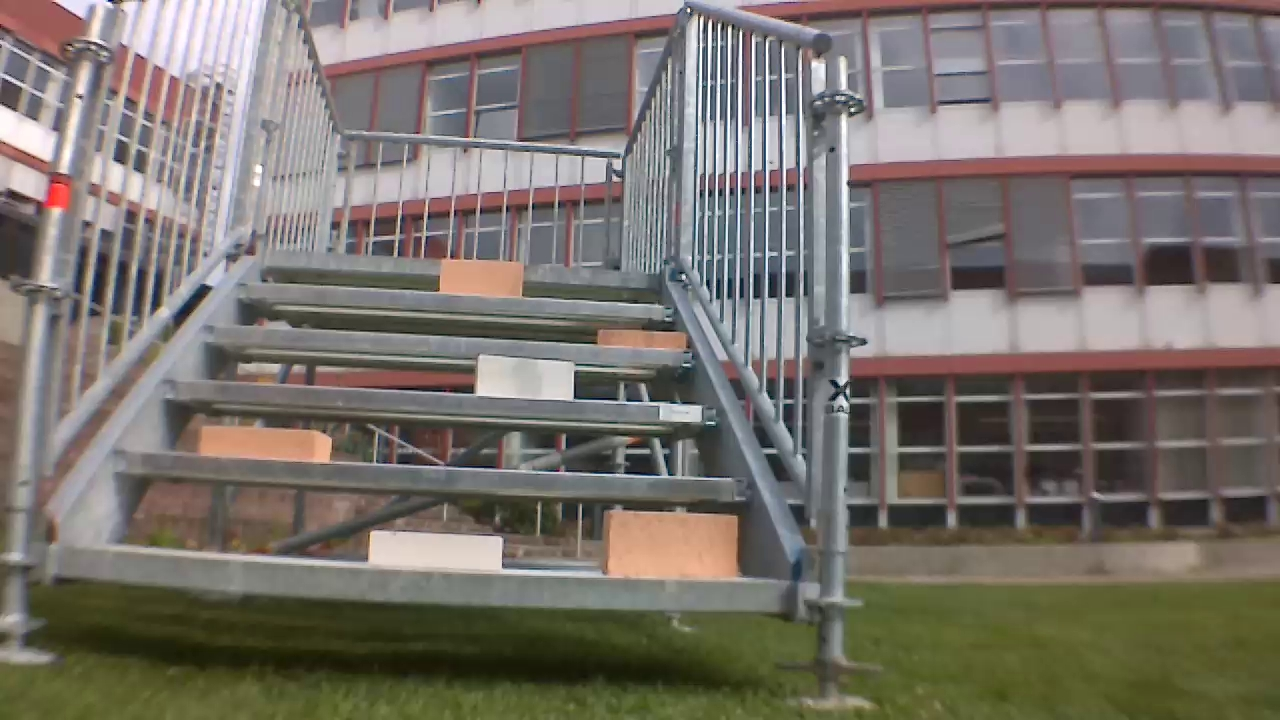brick: (603, 515, 741, 577), (365, 530, 508, 568), (203, 425, 336, 463), (470, 358, 583, 397), (430, 257, 532, 294), (599, 330, 688, 346)
edge: (46, 541, 799, 611), (106, 443, 751, 502), (160, 380, 718, 427), (206, 321, 696, 366), (239, 285, 674, 323), (265, 246, 662, 284)
stairs: (0, 5, 836, 620)
steps: (37, 249, 802, 592)
